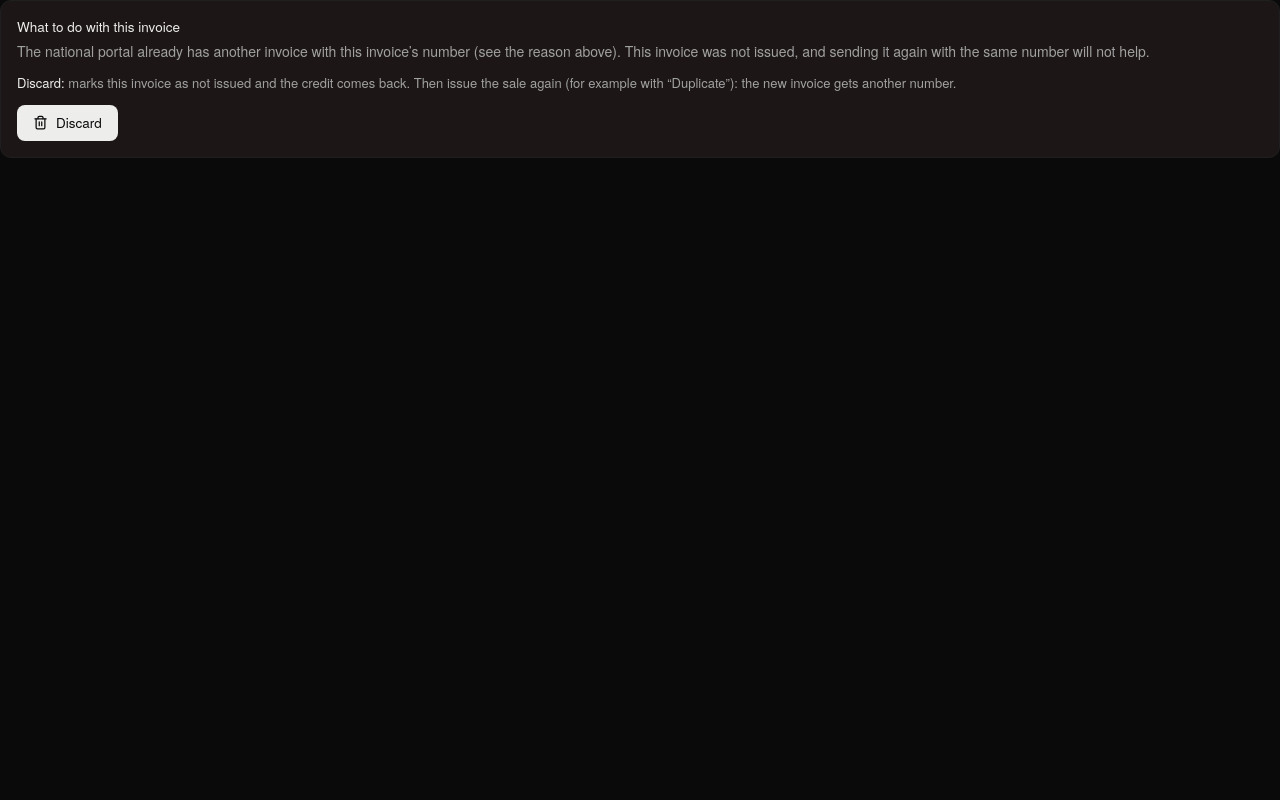
Test: ManualReviewActions › only offers discard when the invoice number already belongs to another invoice
Later steps or results of the test are not shown.
Expected: the text "The national portal already has another invoice with this invoice’s number (see the reason above). This invoice was not " is shown, x1=17 y1=41 x2=1150 y2=61
Click the button "Discard".
click(67, 123)  # box x1=17 y1=105 x2=118 y2=141
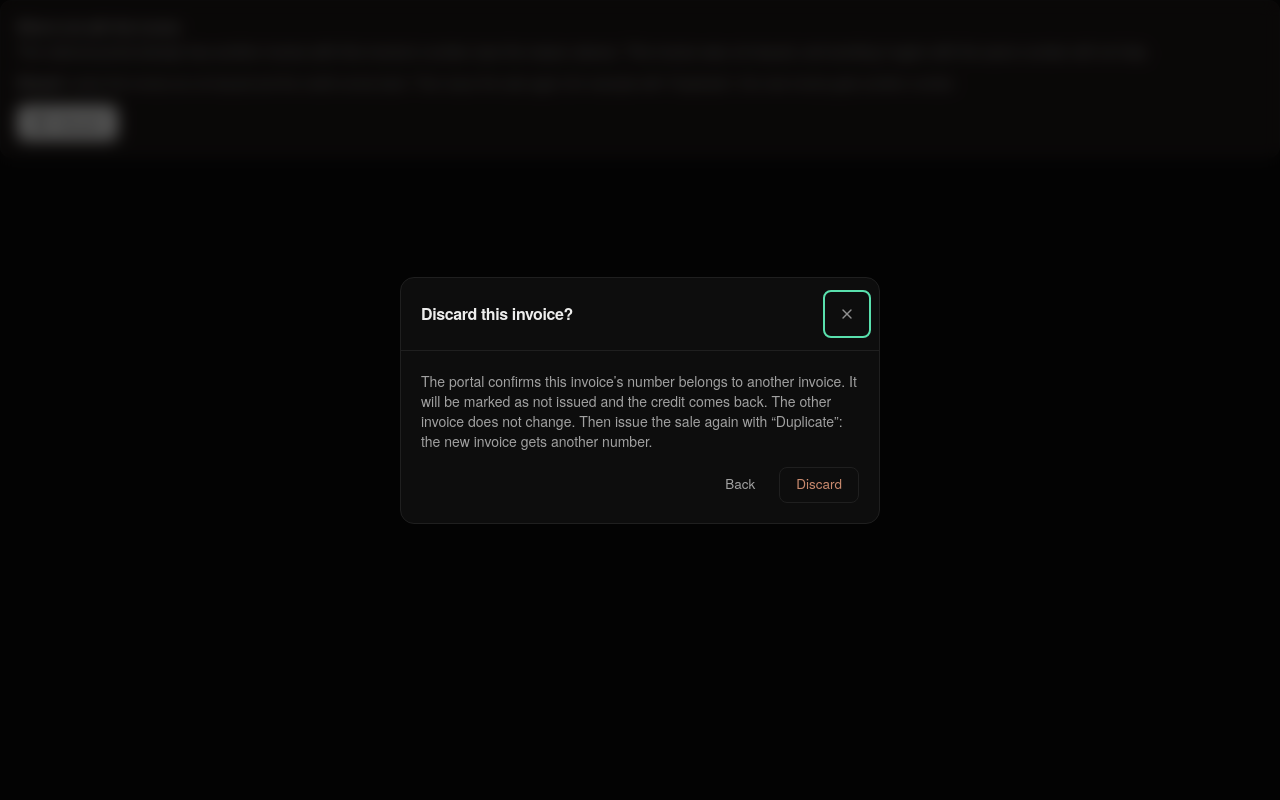
Expected: the text "The portal confirms this invoice’s number belongs to another invoice. It will be marked as not issued and the credit com" is shown, x1=421 y1=370 x2=857 y2=450
